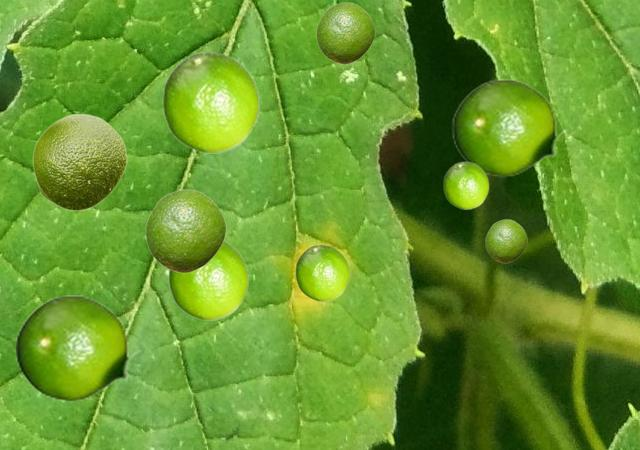calamansi: (14, 295, 141, 401), (451, 79, 568, 176), (162, 51, 259, 152), (32, 113, 126, 210), (145, 189, 225, 272), (168, 239, 248, 319), (316, 2, 374, 63), (295, 244, 349, 300), (443, 161, 488, 208), (485, 219, 526, 262)
